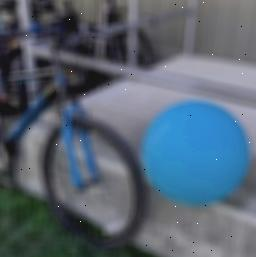algae: (141, 99, 248, 203)
